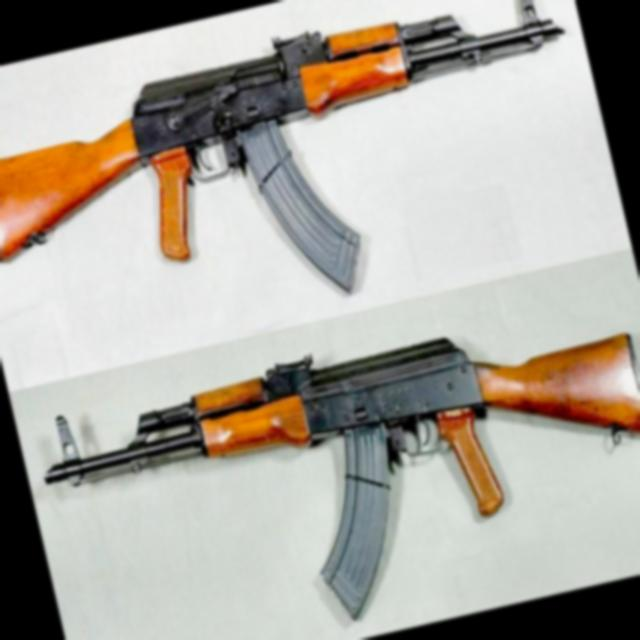ak: (0, 0, 617, 367)
